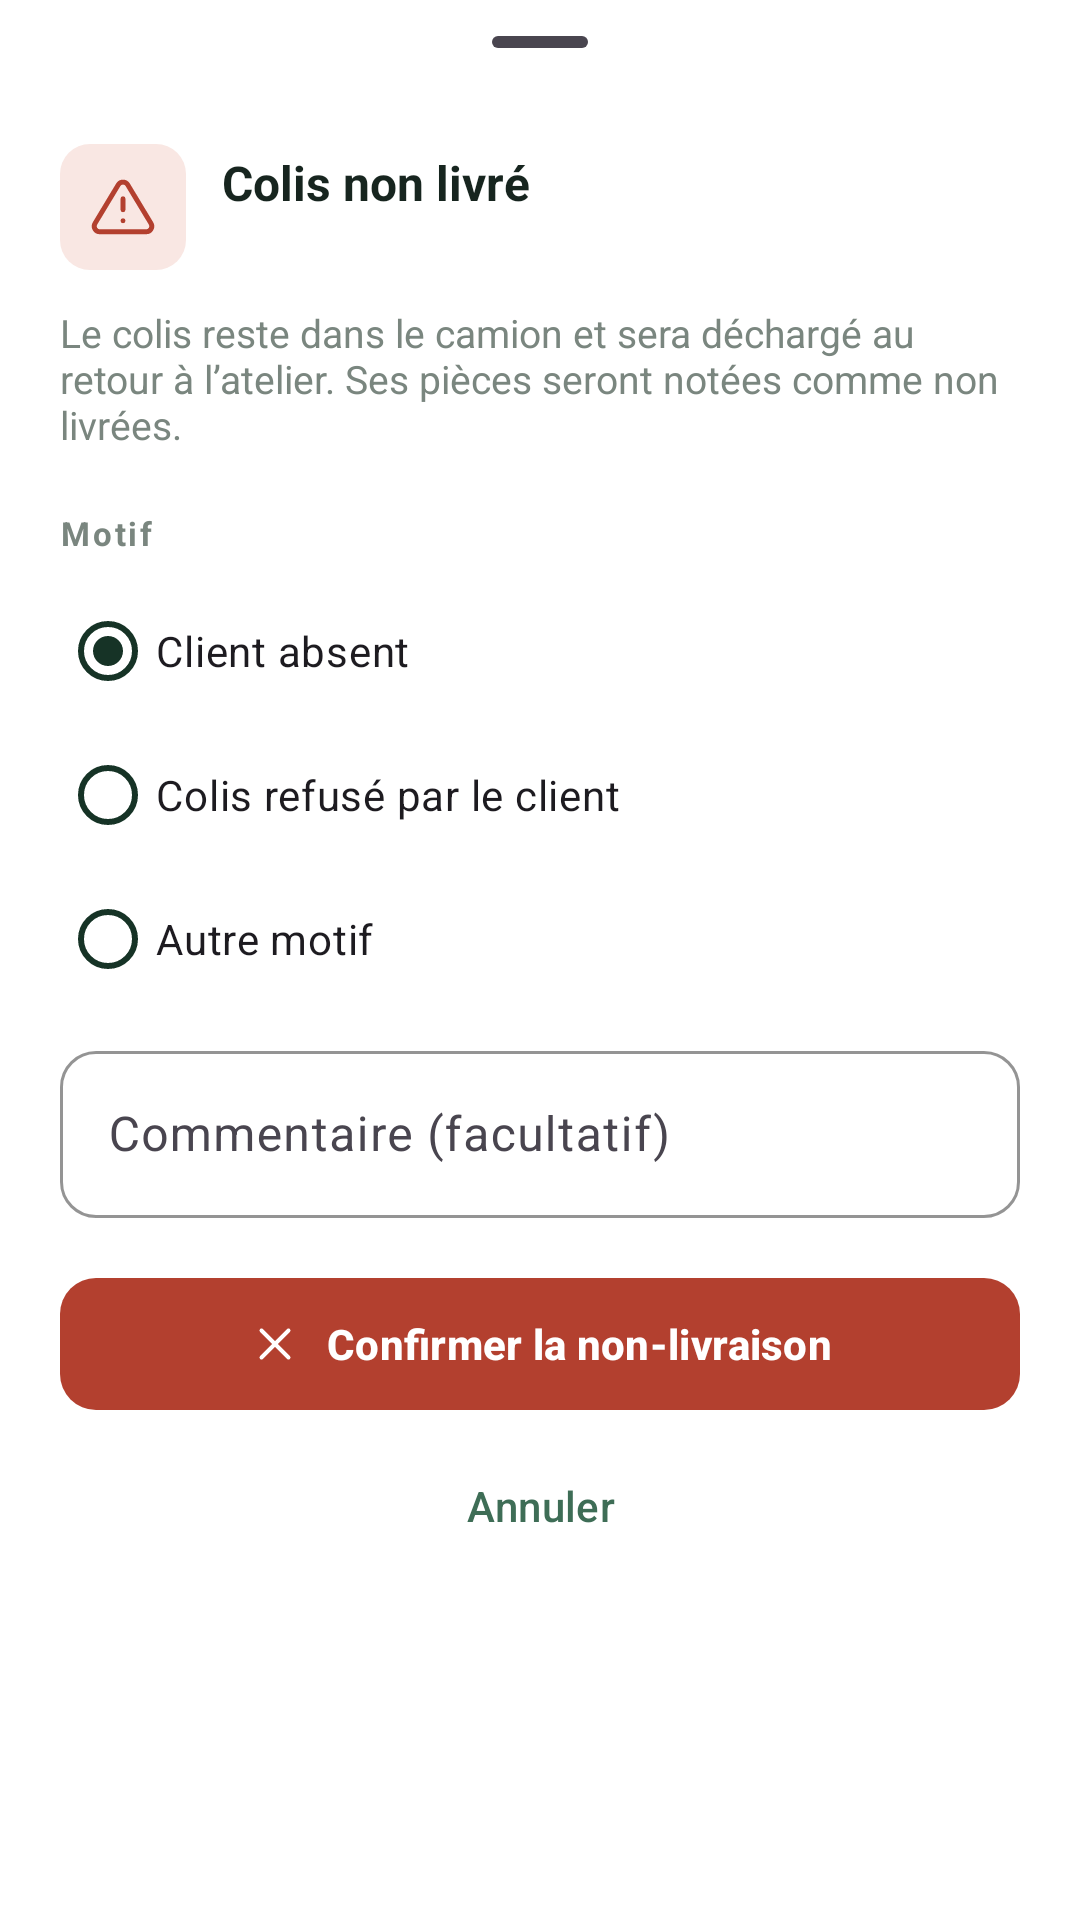

Point at icon controls on the screen. Image size 1080 × 1920, points as point (x, y).
alerte: point (123, 207)
